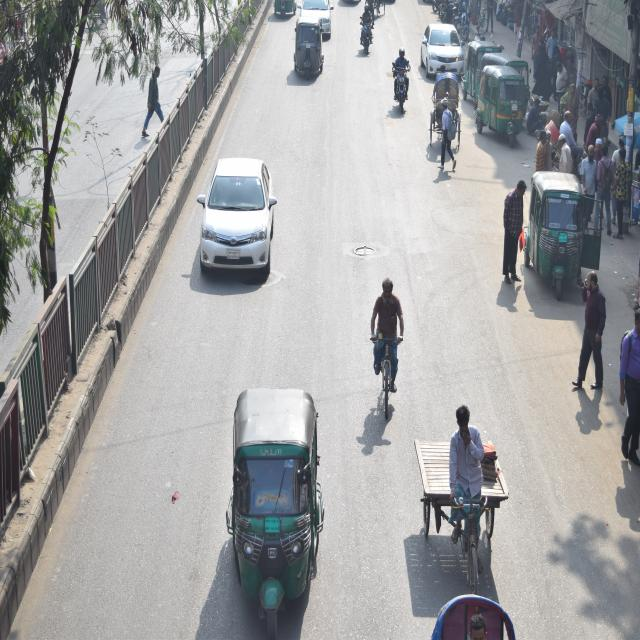car: (198, 152, 278, 284), (416, 18, 467, 71), (299, 0, 334, 38)
motorbike: (382, 54, 416, 123), (356, 12, 378, 59)
